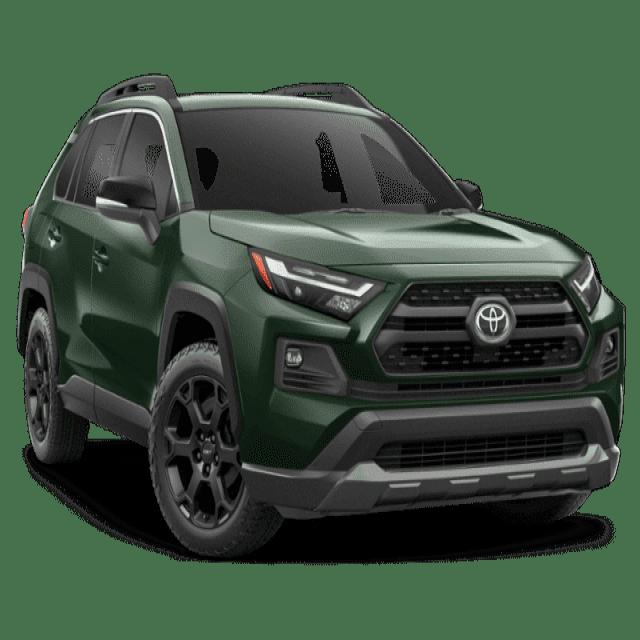light_vehicle: (17, 76, 626, 563)
